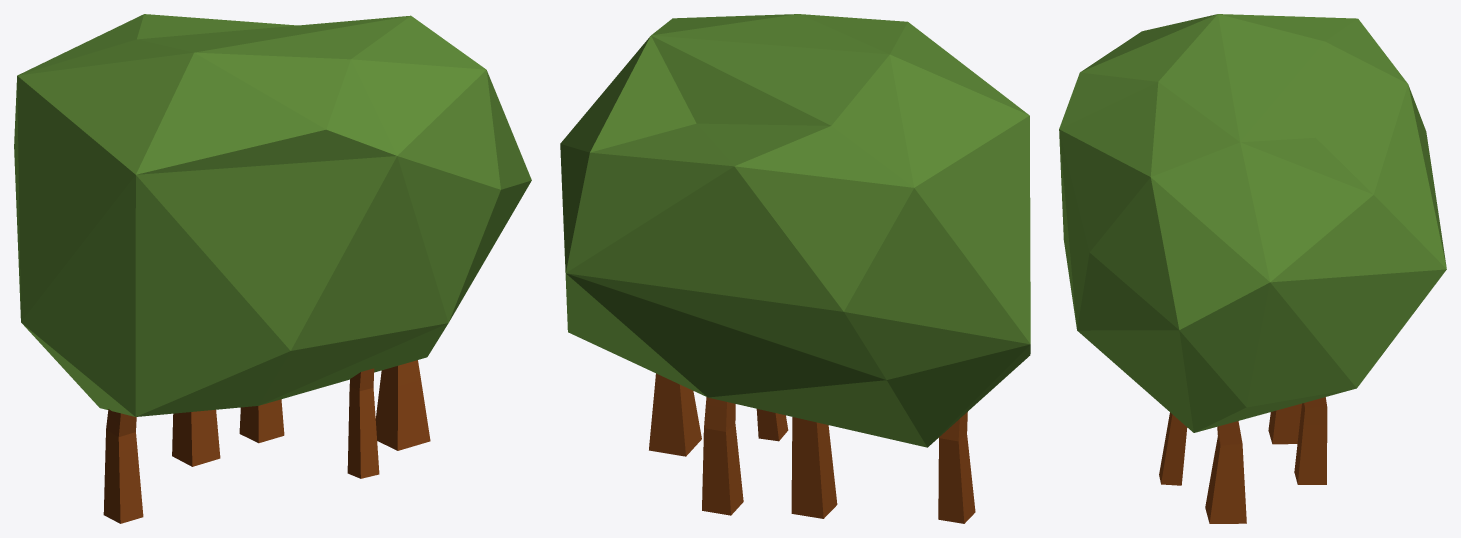
File: bushes.02.fbx
3 views of the same model, side by side, from view 1: azimuth 30°, elevation 25°; view 2: azimuth 150°, elevation 25°; view 3: azimuth 270°, elevation 25° (orthographic). The views are drawn at different scales.
Visible parts, largest first — view 1: topGreen, Vert.005, Vert.004, Vert.003, Vert.002, Vert.001; view 2: topGreen, Vert.001, Vert.002, Vert.005, Vert.004, Vert.003; view 3: topGreen, Vert.005, Vert.001, Vert.003, Vert.002.
Part boxes in pixels (x1=…): topGreen: x1=14, y1=14, x2=531, y2=416; Vert.005: x1=375, y1=360, x2=430, y2=450; Vert.004: x1=103, y1=409, x2=143, y2=523; Vert.003: x1=347, y1=368, x2=379, y2=478; Vert.002: x1=172, y1=409, x2=220, y2=466; Vert.001: x1=239, y1=399, x2=284, y2=443; topGreen: x1=560, y1=14, x2=1030, y2=447; Vert.001: x1=702, y1=397, x2=743, y2=515; Vert.002: x1=791, y1=417, x2=837, y2=518; Vert.005: x1=649, y1=373, x2=701, y2=456; Vert.004: x1=938, y1=412, x2=975, y2=523; Vert.003: x1=756, y1=409, x2=788, y2=441; topGreen: x1=1059, y1=14, x2=1446, y2=432; Vert.005: x1=1205, y1=421, x2=1246, y2=523; Vert.001: x1=1294, y1=397, x2=1327, y2=484; Vert.003: x1=1159, y1=412, x2=1187, y2=485; Vert.002: x1=1268, y1=403, x2=1301, y2=444.
Size of the model in its own units: 249 by 225 by 191.
